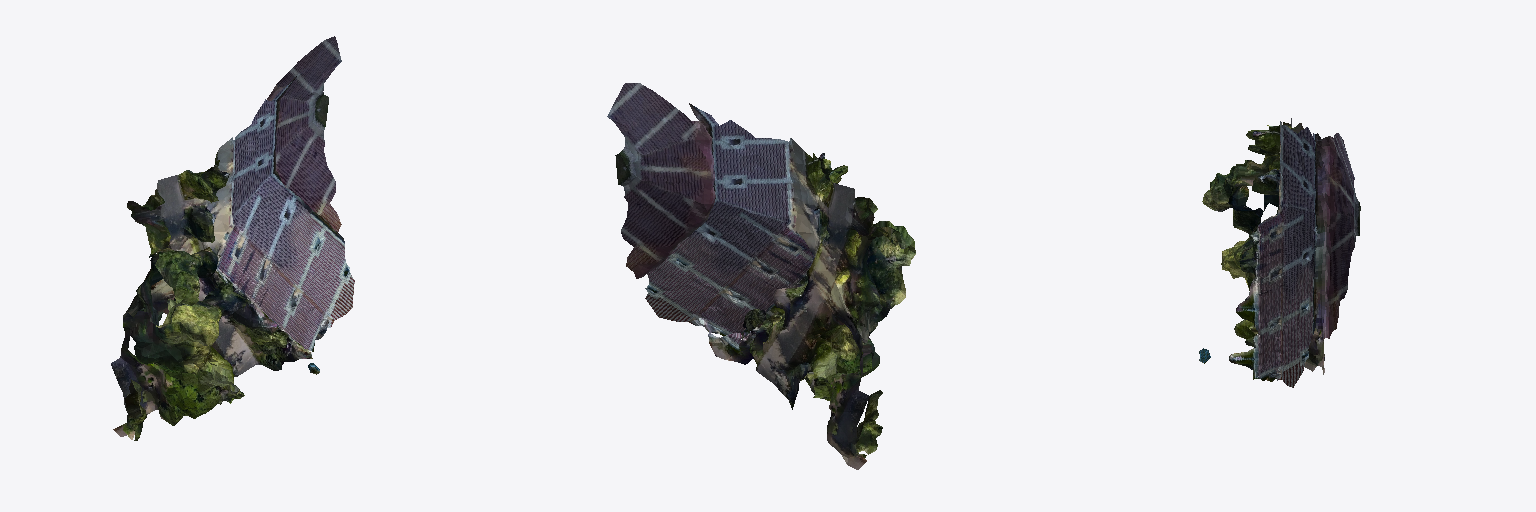
The picture shows the model from 3 angles: view 1: azimuth 30°, elevation 25°; view 2: azimuth 150°, elevation 25°; view 3: azimuth 270°, elevation 25°; orthographic projection.
Size of the model in its own units: 72.63 by 95.78 by 41.15.
Materials: 1 (1 with a texture image).